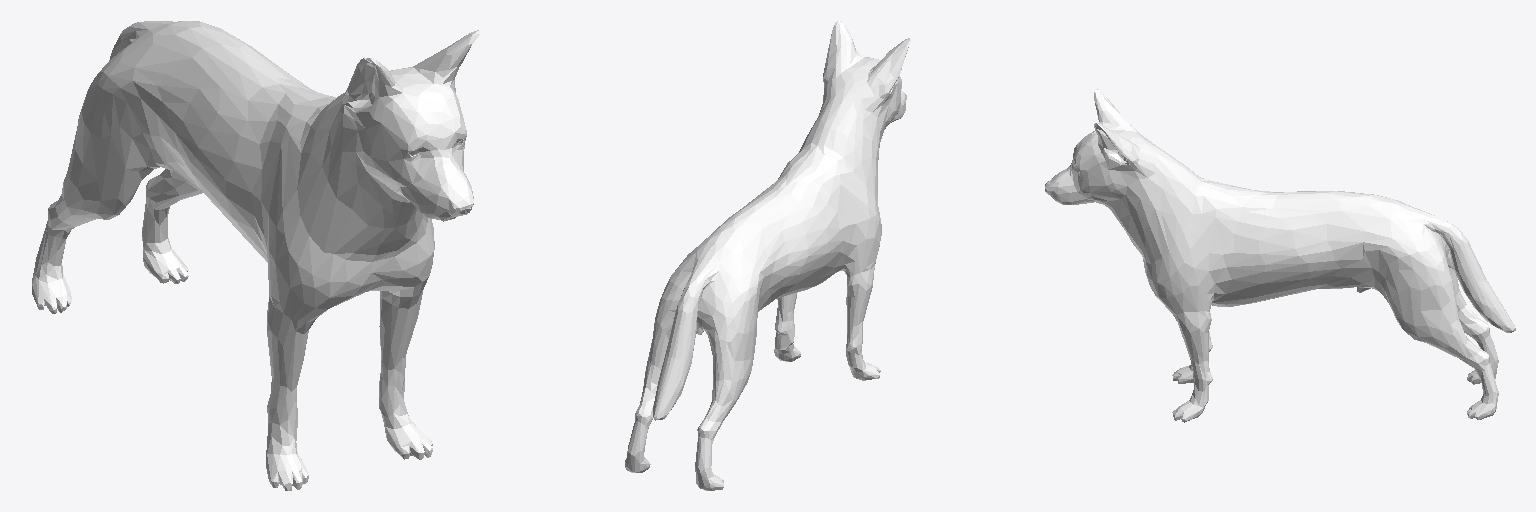
The robot description file, URDF, robot "simple_dog4.obj":
<robot name="simple_dog4.obj">
	<link name="_name">
		<visual>
			<origin xyz="0 0 0" rpy="0 0 0" />
			<geometry>
				<mesh filename="simple_dog4.obj" scale="0.1 0.1 0.1" />
			</geometry>
			<material name="texture">
				<color rgba="1.0 1.0 1.0 1.0" />
			</material>
		</visual>
		<collision>
			<geometry>
				<mesh filename="simple_dog4_vhacd.obj" scale="0.1 0.1 0.1" />
			</geometry>
		</collision>
		<inertial>
			<mass value="1.0" />
			<inertia ixx="1.0" ixy="0.0" ixz="0.0" iyy="1.0" iyz="0.0" izz="1.0" />
		</inertial>
	</link>
</robot>

--- Render facts (derived) ---
The picture shows the robot from 3 angles, left to right: view 1: azimuth 30°, elevation 25°; view 2: azimuth 150°, elevation 25°; view 3: azimuth 270°, elevation 25°; orthographic projection.
Robot: simple_dog4.obj — 1 links, 0 joints (none); root link _name; default pose: every joint at zero.
Visible links, largest first — view 1: _name; view 2: _name; view 3: _name.
Link boxes in pixels (x1,y1,x2,y2): _name: (32, 21, 479, 490); _name: (625, 21, 910, 490); _name: (1045, 89, 1515, 422).
Bounding box of the posed robot: 0.937 × 3.87 × 2.66 m (x, y, z).
Meshes: 1 distinct files referenced, 1 mesh visuals loaded (1 OBJ).